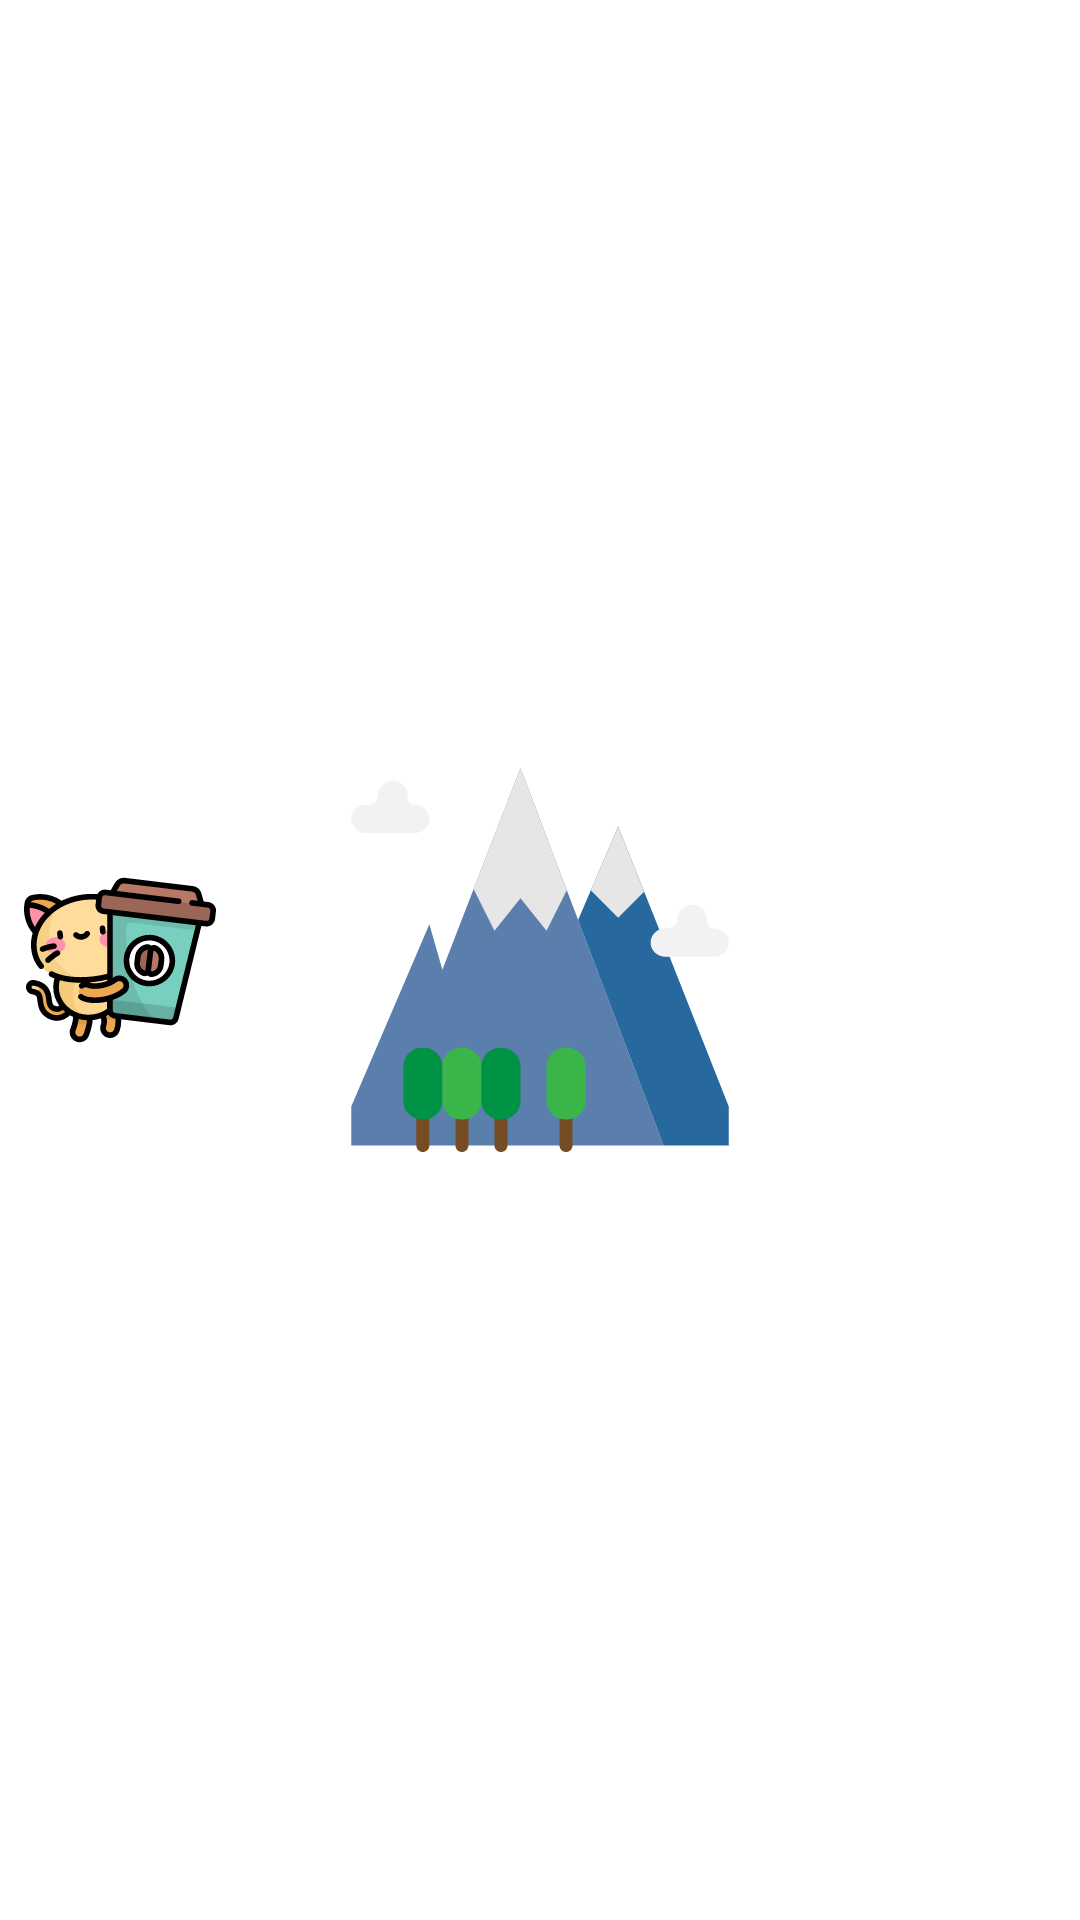

Named icons in this screenshot (1080 x 1920) and their centers, (x=x, y=y):
kitty: (x=120, y=960)
